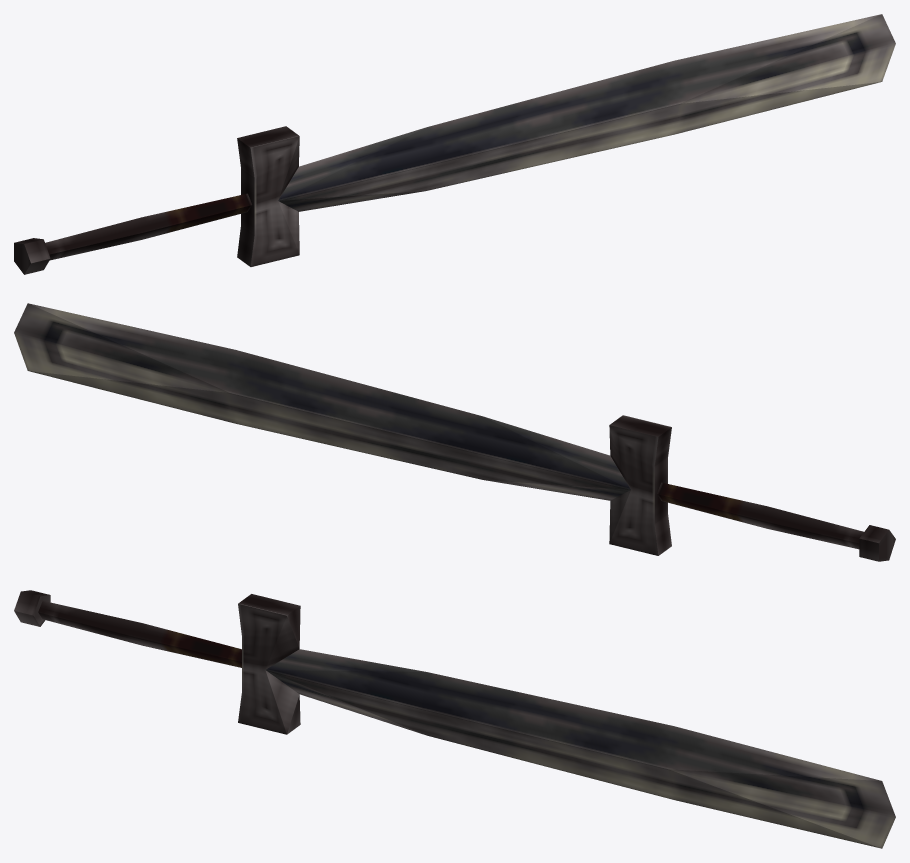
File: 1D.WEP_posed.obj
The picture shows the model from 3 angles, top to bottom: view 1: azimuth 30°, elevation 25°; view 2: azimuth 150°, elevation 25°; view 3: azimuth 330°, elevation 25°; orthographic projection.
Bounding box in the file's own units: 445 × 58 × 15.
Materials: 1 (1 with a texture image).
